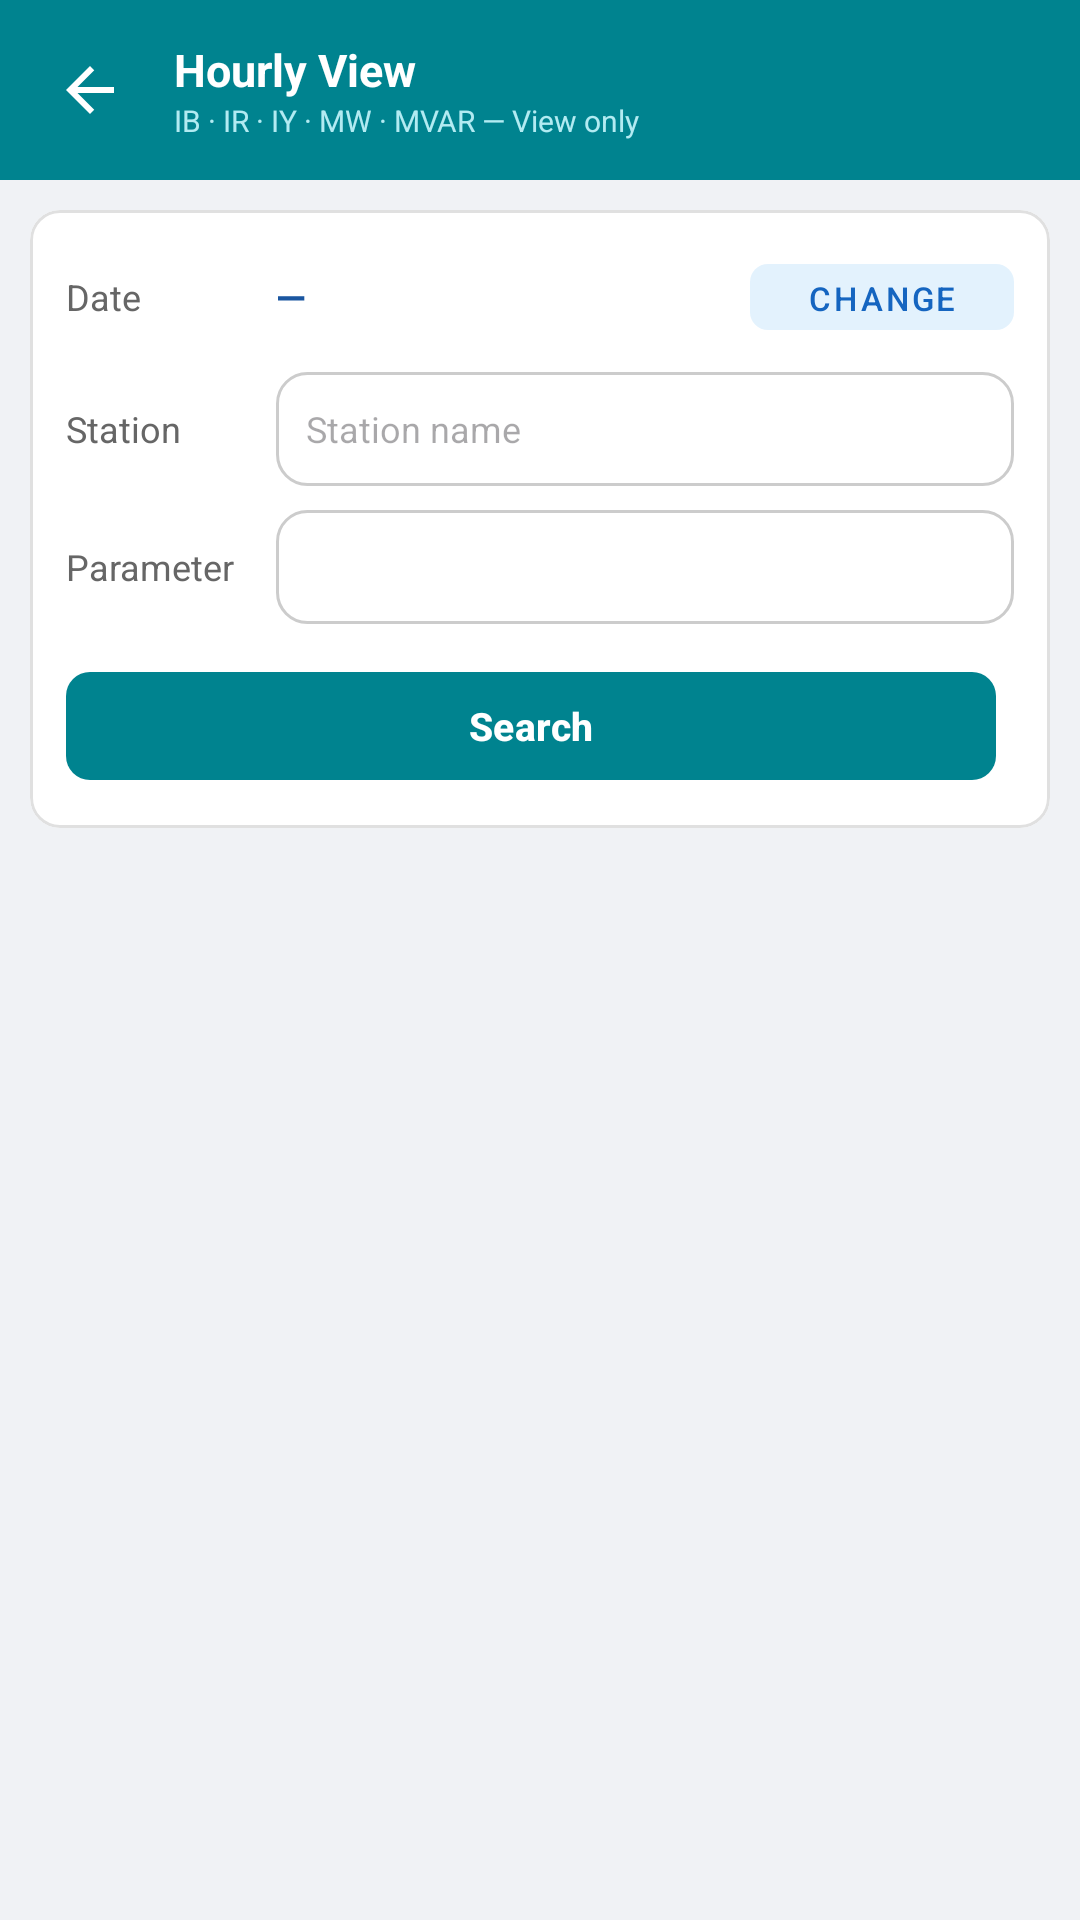

Named icons in this screenshot (1080px x 1920px) and their bounding boxes, (x1, y1, x2, y2):
Back: (66, 66, 114, 114)
